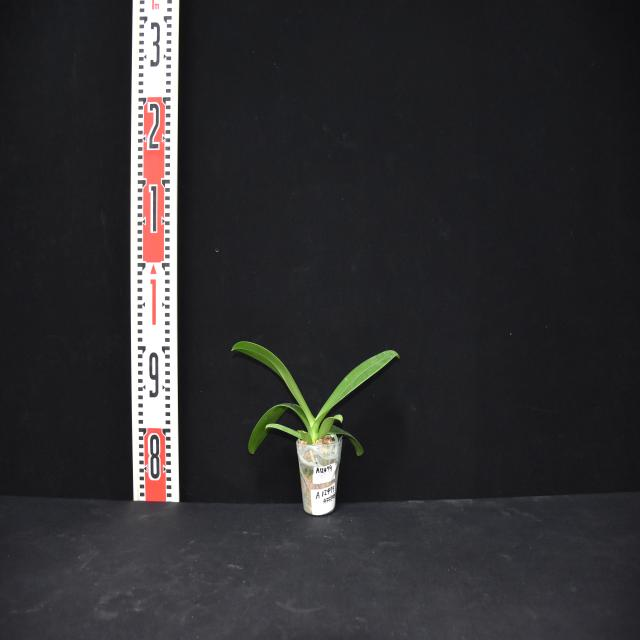leaf: (231, 342, 315, 429), (314, 350, 399, 430), (249, 403, 311, 454), (328, 425, 364, 455), (317, 415, 343, 439), (266, 424, 302, 439), (301, 430, 313, 445)
